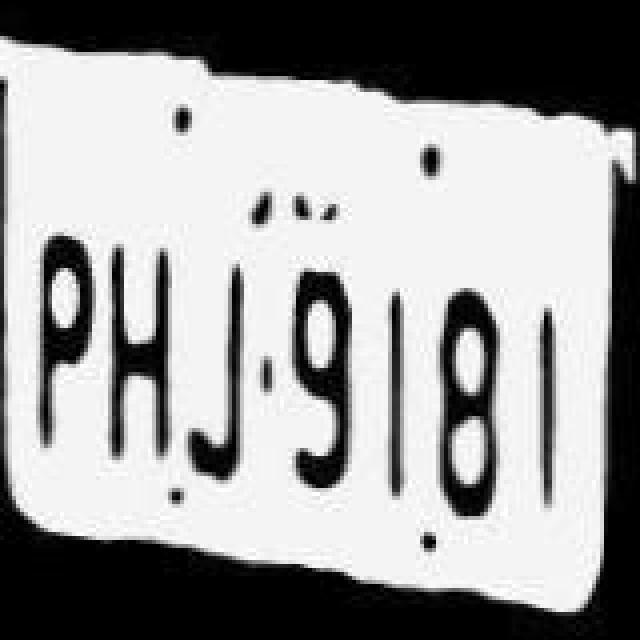1: (518, 264, 582, 512), (378, 254, 434, 510)
8: (424, 264, 516, 524)
9: (284, 244, 372, 508)
H: (106, 232, 190, 492)
J: (190, 246, 266, 502)
P: (28, 220, 116, 500)
